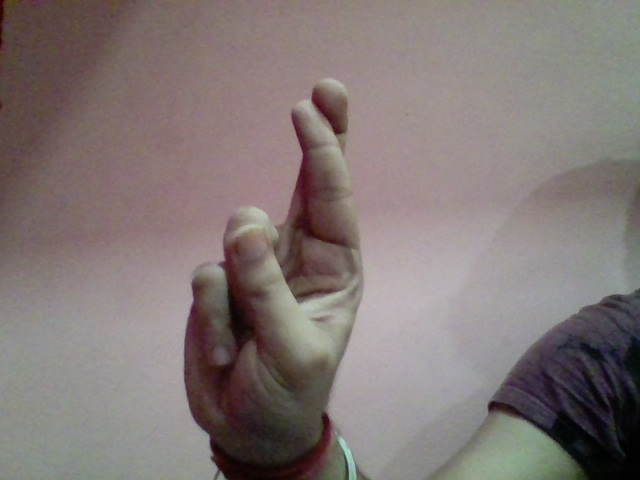r: (176, 75, 375, 451)
